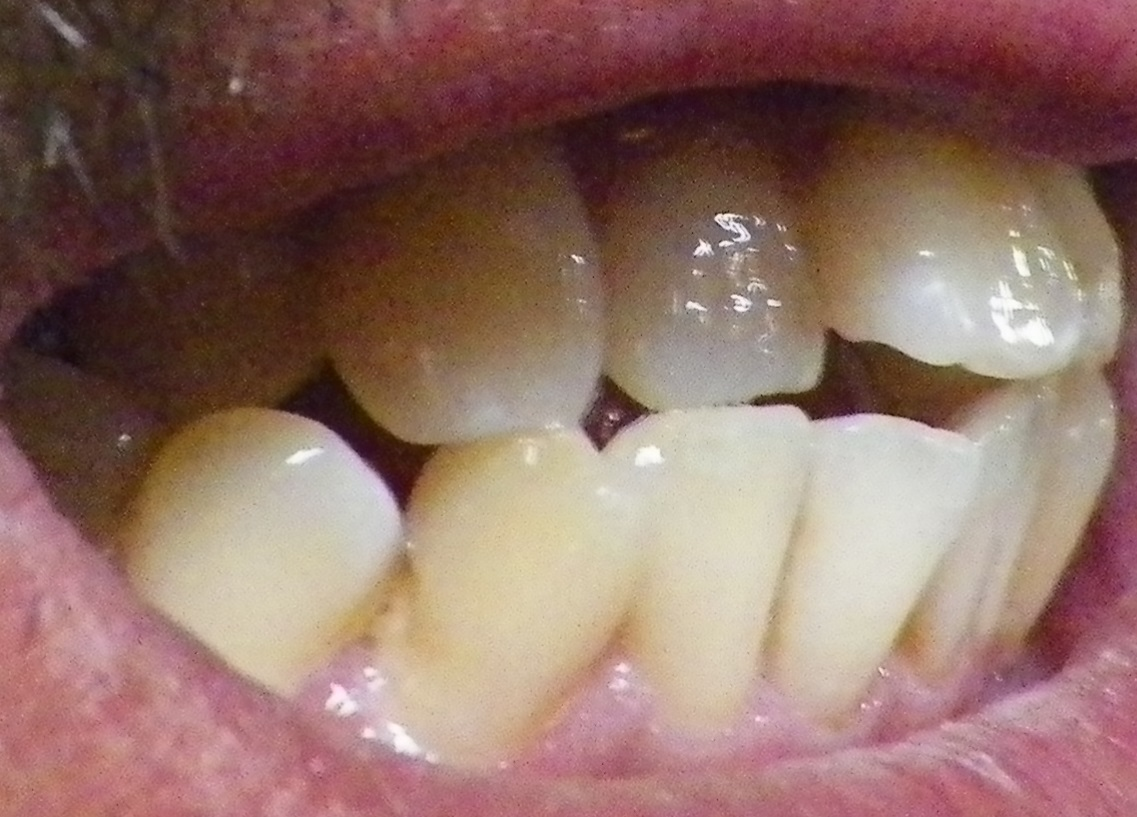boca: (68, 124, 1122, 730)
